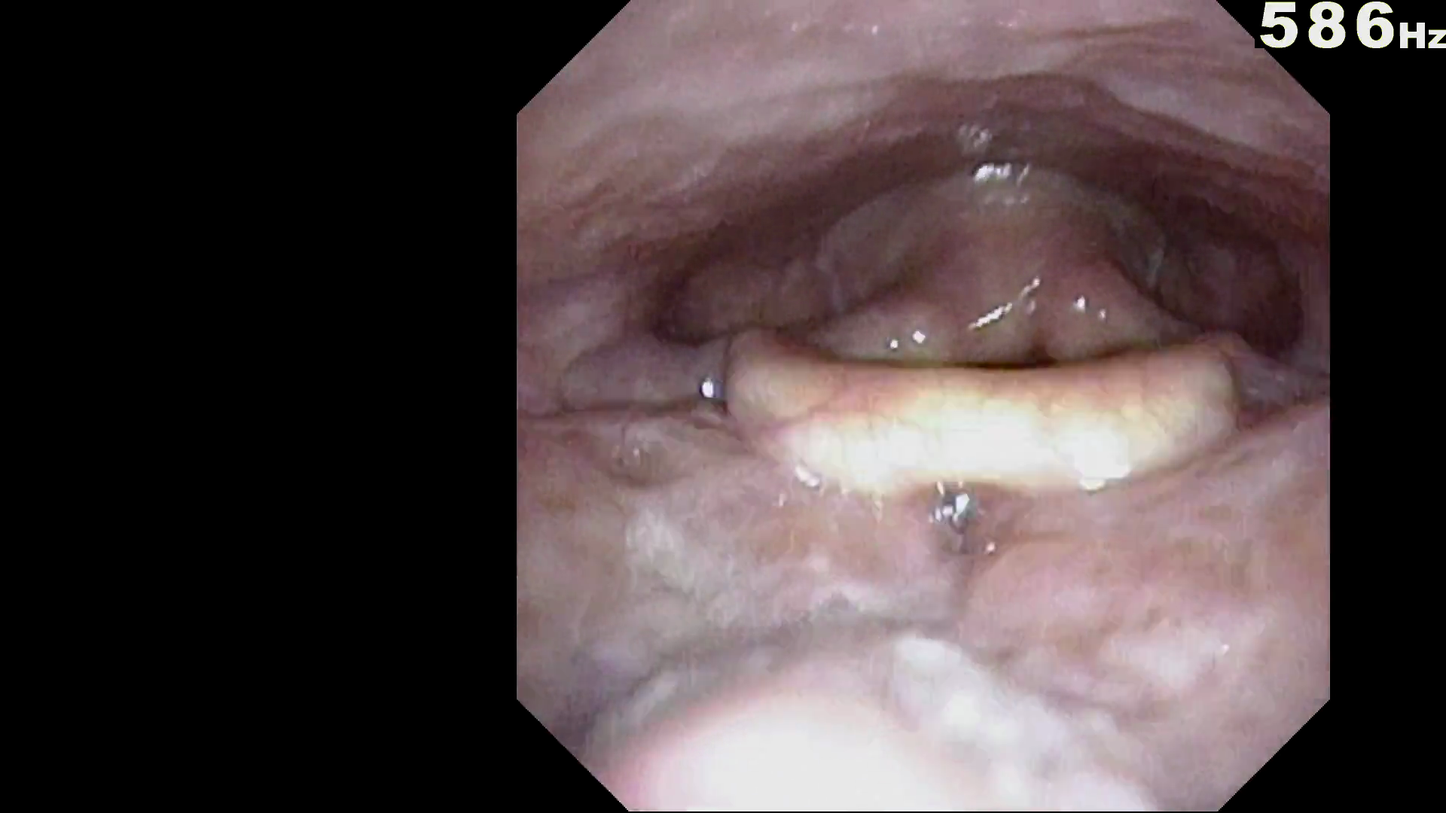epiglottis: (744, 337, 1211, 492)
